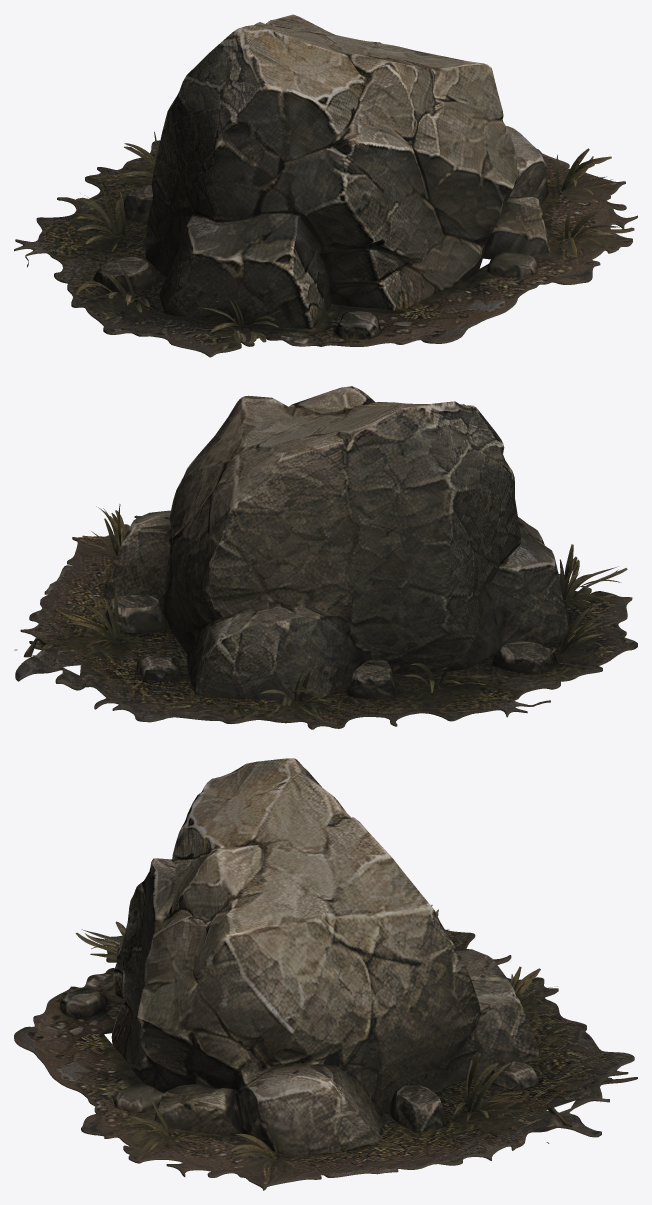
File: kit-rocks.glb
The picture shows the model from 3 angles, top to bottom: view 1: azimuth 30°, elevation 25°; view 2: azimuth 150°, elevation 25°; view 3: azimuth 270°, elevation 25°; orthographic projection. The views are drawn at different scales.
Parts seen in each view (by area): view 1: rock_01_boulder, rock_02_ground_patch; view 2: rock_01_boulder, rock_02_ground_patch; view 3: rock_01_boulder, rock_02_ground_patch.
Boxes of the visible parts, x1,y1,x2,y2 form: rock_01_boulder: (145, 14, 550, 328); rock_02_ground_patch: (14, 131, 637, 357); rock_01_boulder: (105, 386, 568, 699); rock_02_ground_patch: (14, 504, 637, 729); rock_01_boulder: (111, 758, 539, 1155); rock_02_ground_patch: (14, 905, 637, 1190).
Bounding box in the file's own units: 4.8 × 2 × 4.57.
1 material, 1 textured.
